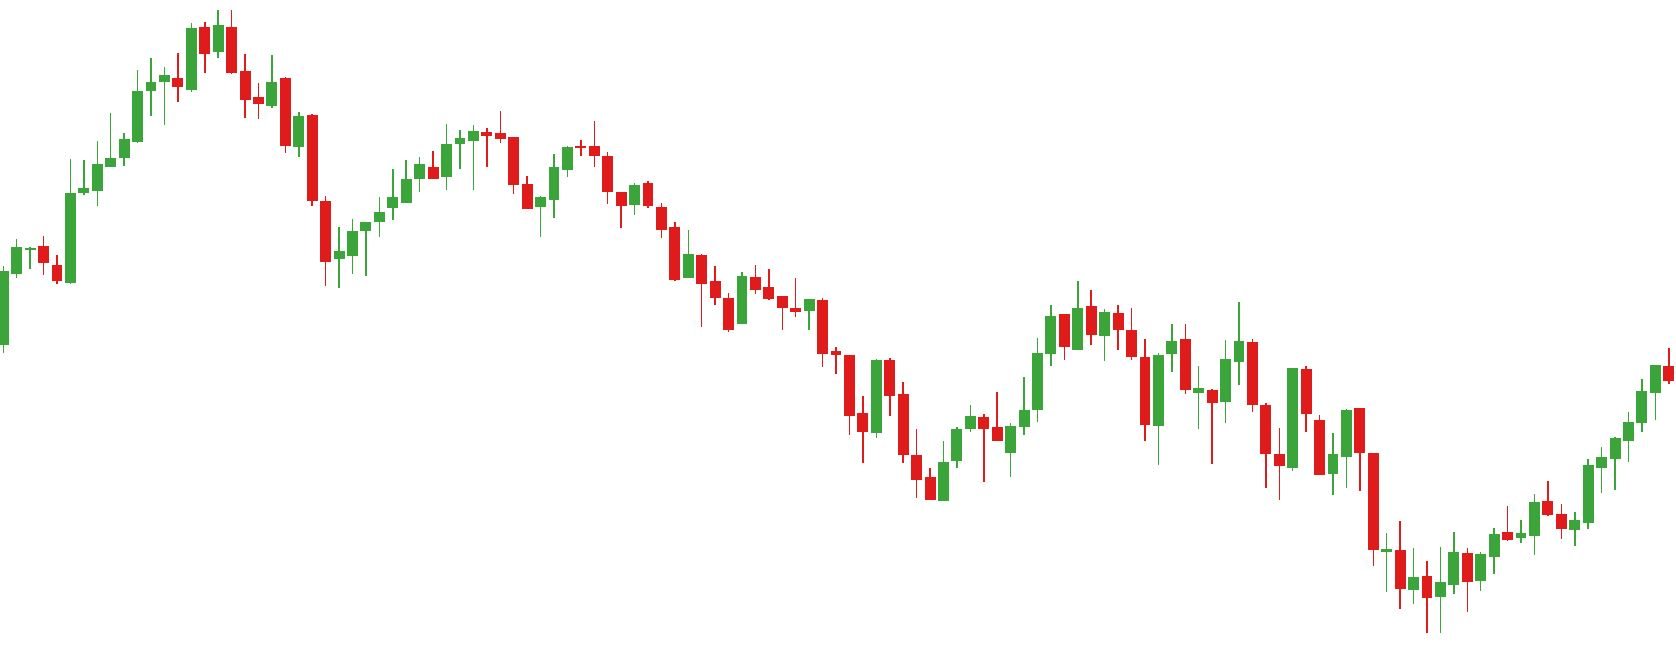sell: (1165, 303, 1246, 405)
